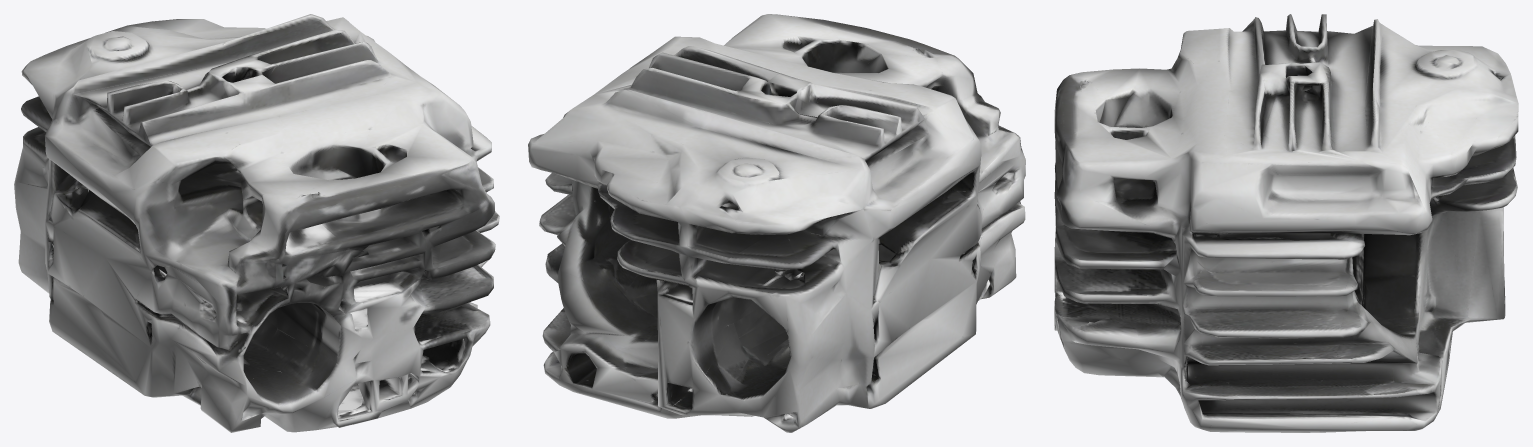
File: cylinder-head.glb
The picture shows the model from 3 angles, left to right: view 1: azimuth 30°, elevation 25°; view 2: azimuth 150°, elevation 25°; view 3: azimuth 270°, elevation 25°; orthographic projection.
Size of the model in its own units: 1.83 by 1.39 by 2.
1 material, 1 textured.
